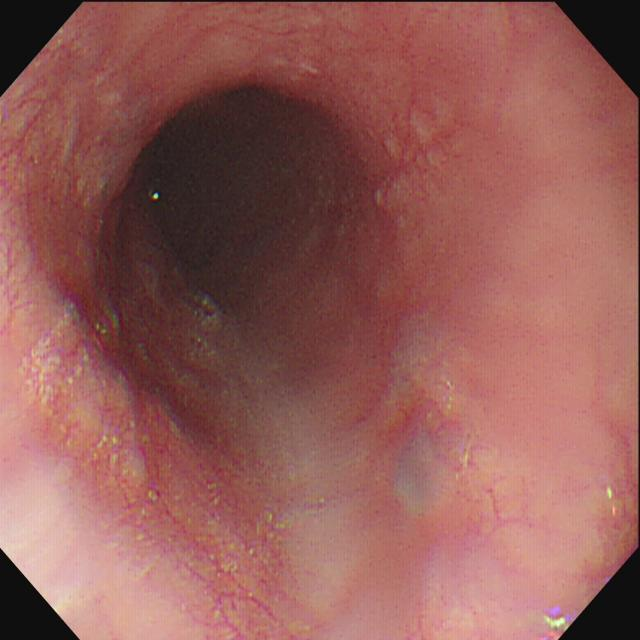A: (24, 278, 170, 511), (373, 110, 455, 215)
E: (118, 72, 348, 299)
U: (543, 607, 568, 640), (149, 189, 159, 202)
